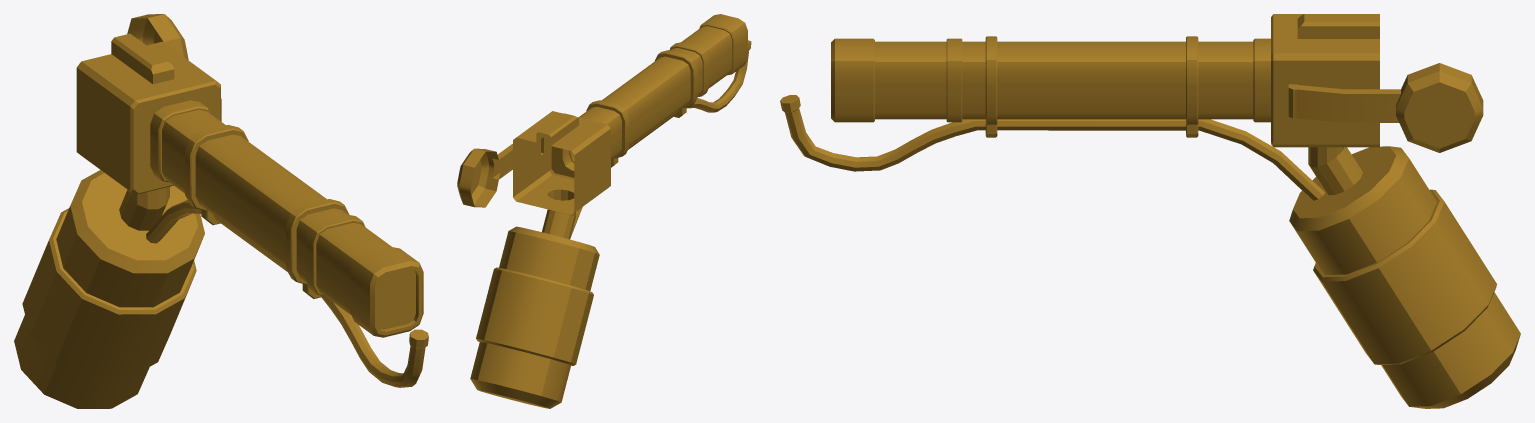
Rendered from weapon_flamethrower_low.fbx.
3 views of the same model, side by side, from view 1: azimuth 30°, elevation 25°; view 2: azimuth 150°, elevation 25°; view 3: azimuth 270°, elevation 25° (orthographic). The views are drawn at different scales.
Parts seen in each view (by area): view 1: flamethrower, pilot_light; view 2: flamethrower, pilot_light; view 3: flamethrower, pilot_light.
Boxes of the visible parts, bbox=[...] form: flamethrower: bbox=[14, 14, 423, 408]; pilot_light: bbox=[146, 200, 428, 387]; flamethrower: bbox=[457, 14, 747, 408]; pilot_light: bbox=[570, 40, 751, 237]; flamethrower: bbox=[831, 14, 1520, 408]; pilot_light: bbox=[780, 95, 1324, 200].
Bounding box in the file's own units: 1.08 × 2.74 × 4.82.
